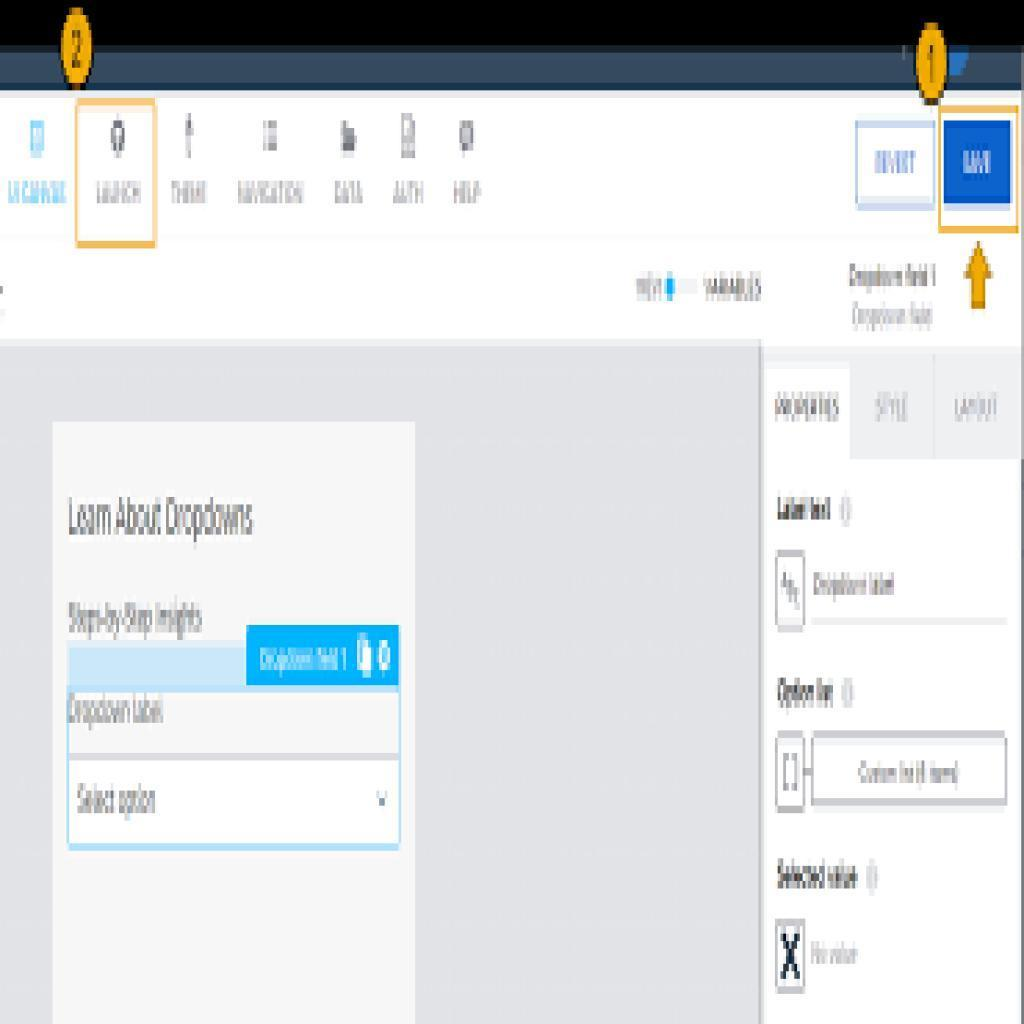button: (815, 734, 1006, 807), (854, 121, 934, 210), (945, 121, 1014, 206)
checkbox: (776, 918, 807, 995)
dropdown: (67, 757, 401, 849)
icon: (398, 109, 427, 162), (106, 116, 137, 160), (25, 116, 55, 159), (178, 110, 203, 159), (337, 116, 363, 160), (260, 119, 286, 156), (455, 120, 481, 157)
